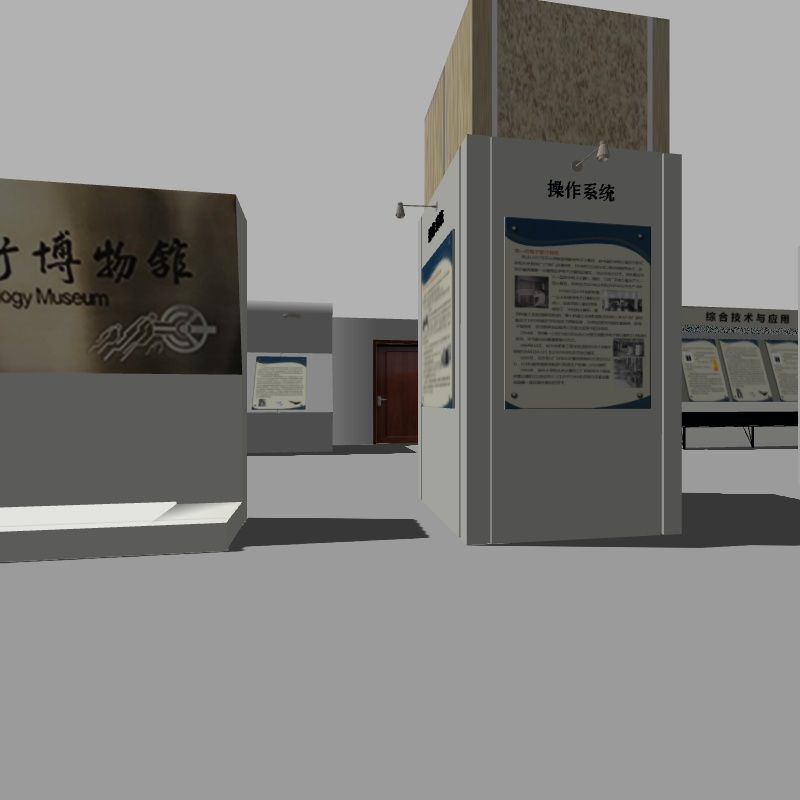handle: (372, 389, 391, 408)
